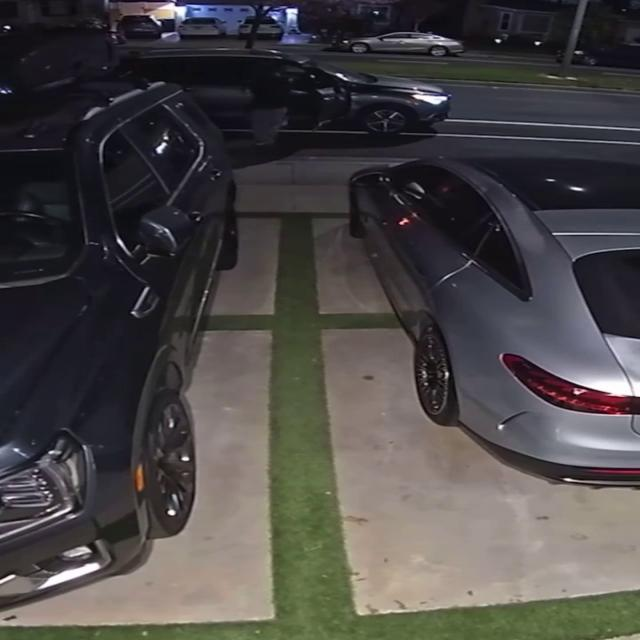Theft - Alert: (349, 156, 639, 489), (0, 84, 235, 382), (121, 50, 451, 166)
